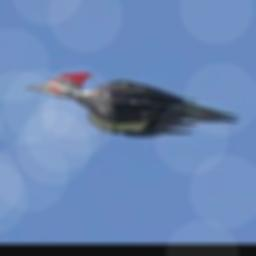Woodpecker: (25, 71, 241, 136)
